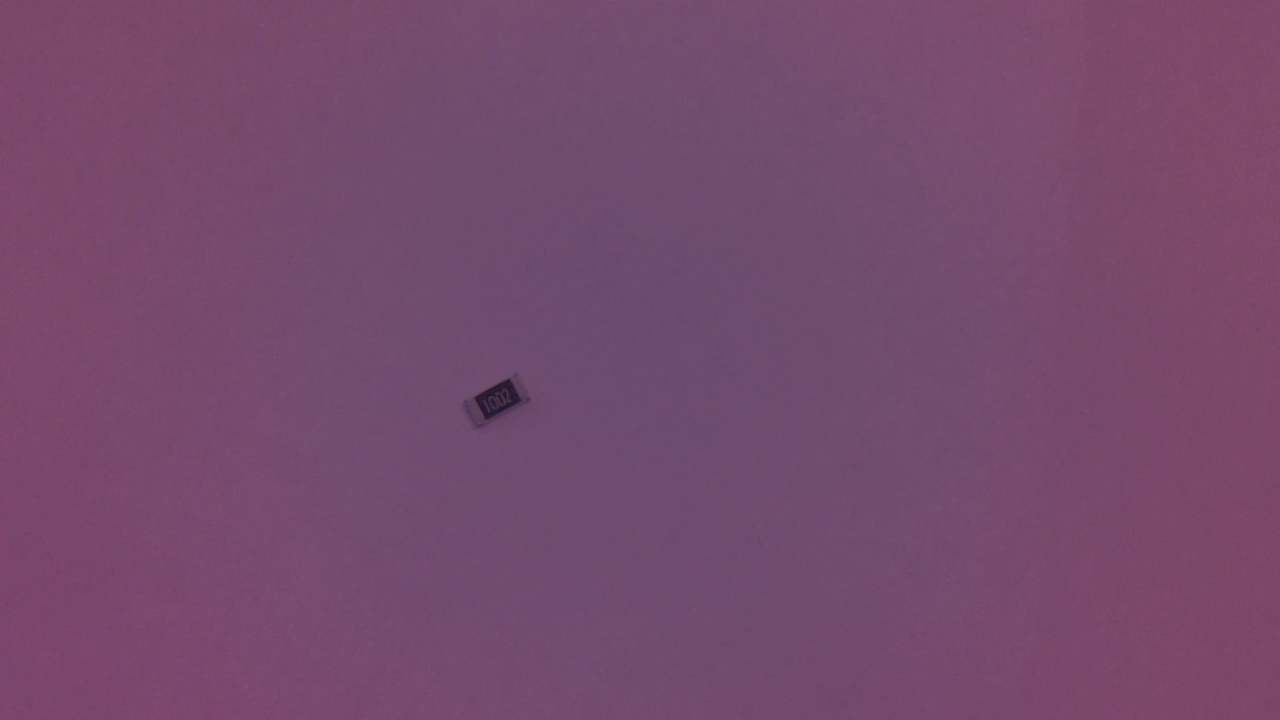Resistor: (462, 369, 543, 441)
